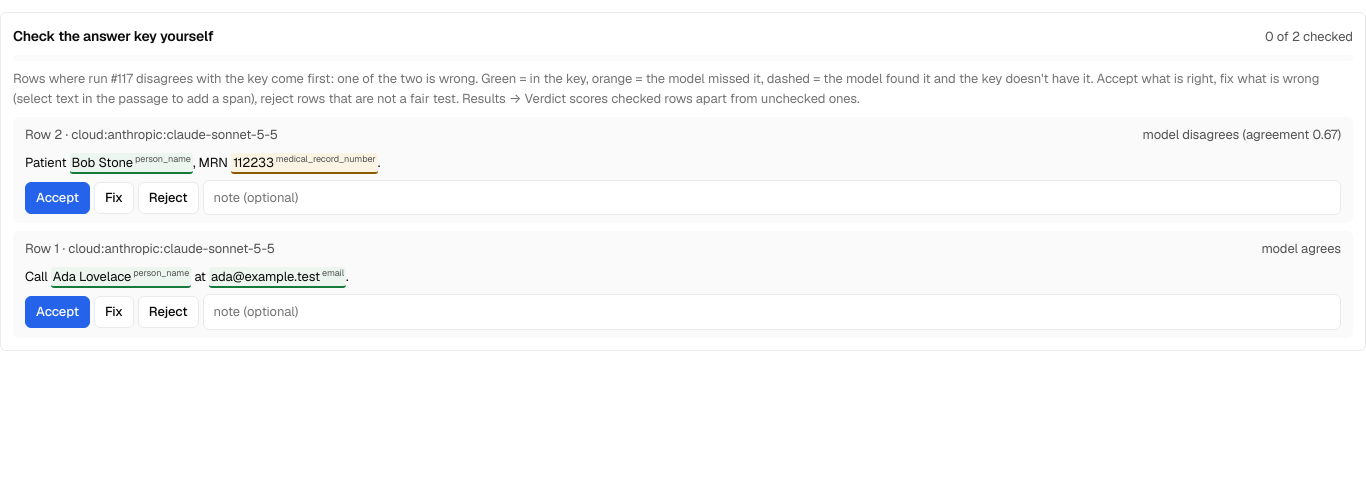
it: AnswerKeyReviewPanel › "use the model's spans" copies the prediction into the draft
This screenshot has width=1366, height=499.
Expected: the element with test id "akr-row-1" is shown, [13, 117, 1353, 224]
Click the button with test id "akr-fix-1" at (114, 198), box [94, 182, 134, 214]
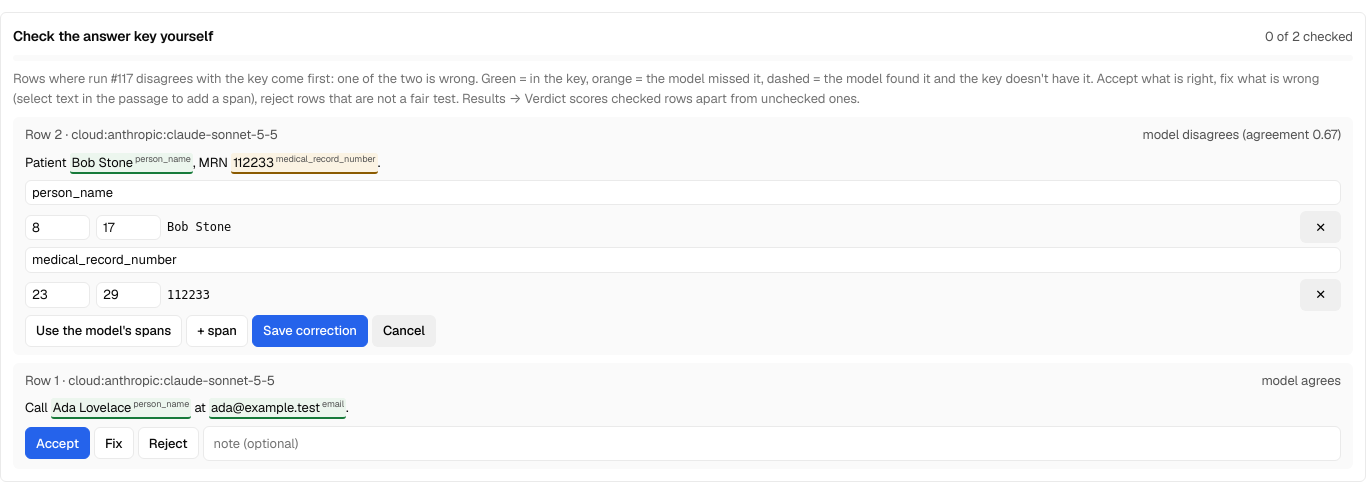
Click the button with test id "akr-use-model-1" at (104, 331), box [25, 315, 182, 347]
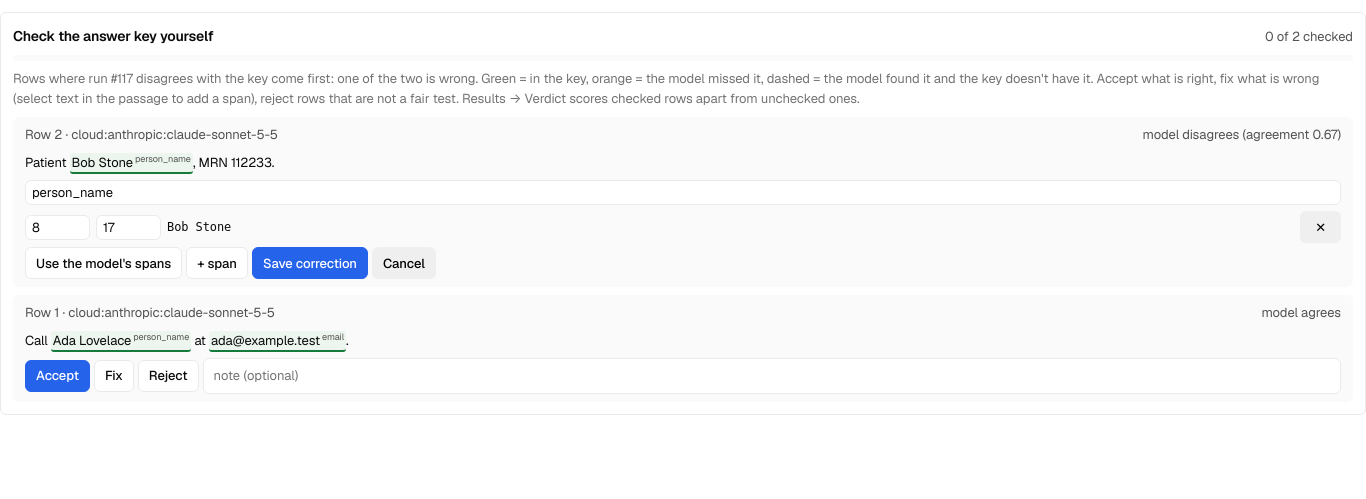
Expected: the number of elements with class "akr__edit-row" is 1, [25, 180, 1341, 244]
